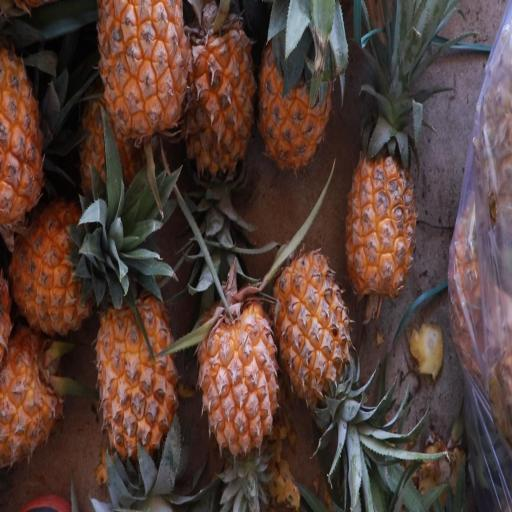Pineapple - v8 v1: (3, 194, 130, 340), (94, 281, 180, 492), (92, 0, 192, 177), (269, 242, 355, 435), (194, 279, 282, 462), (179, 0, 257, 197), (343, 111, 421, 300), (254, 10, 334, 181), (0, 34, 53, 240), (0, 322, 71, 473)
